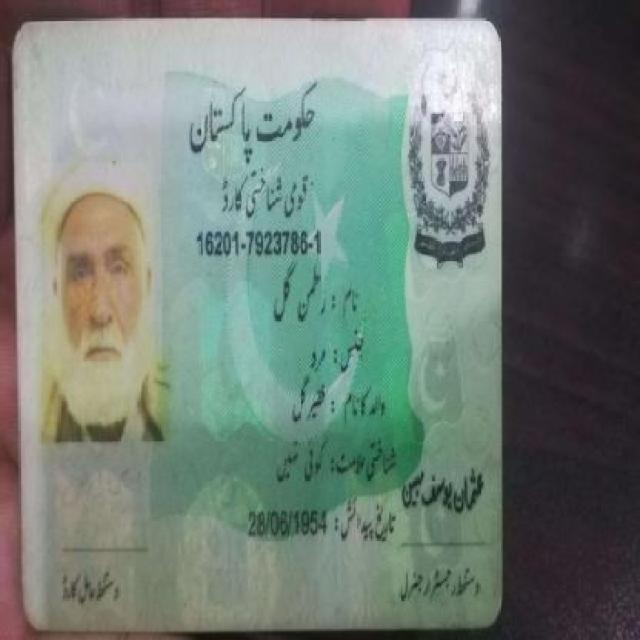Front: (11, 12, 506, 631)
